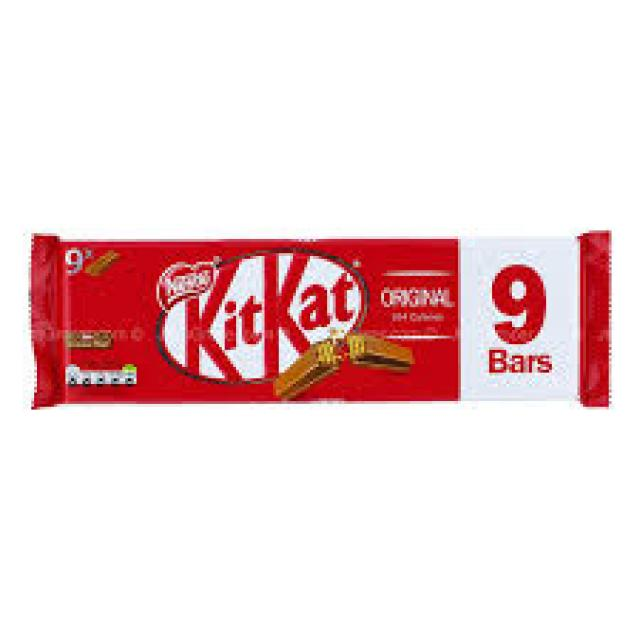kitkat: (24, 232, 608, 410)
